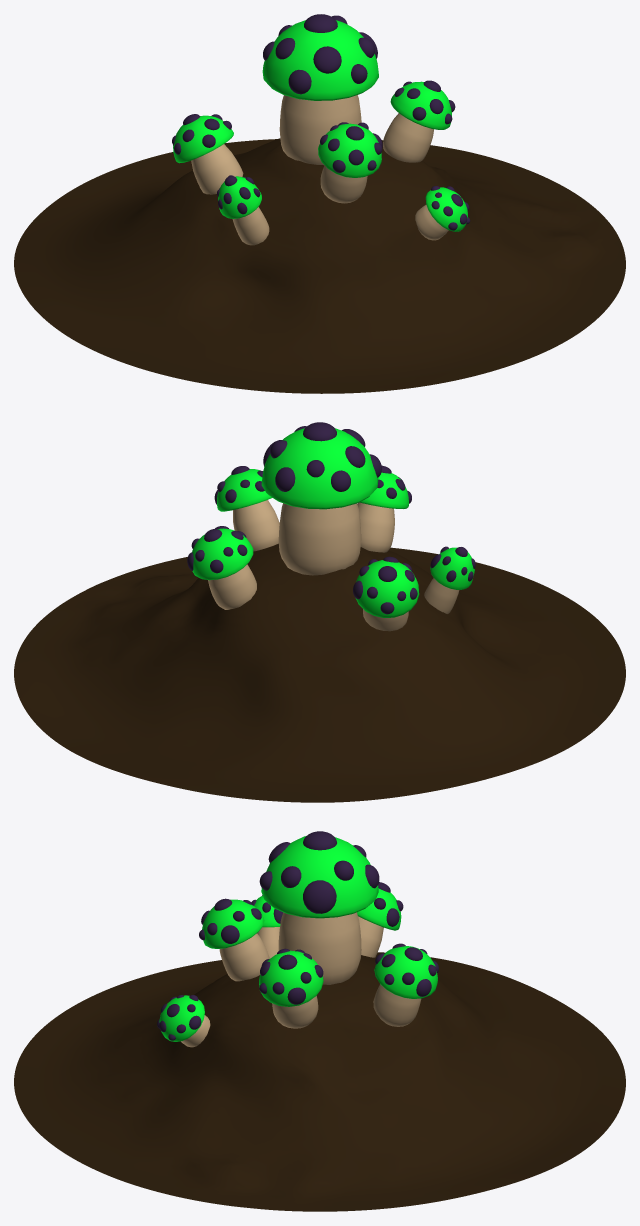
File: Poisonus_Mushrooms.obj
3 renders of one model, top to bottom at view 1: azimuth 30°, elevation 25°; view 2: azimuth 150°, elevation 25°; view 3: azimuth 270°, elevation 25°, orthographic.
Visible parts, largest first — view 1: Poisonous_Mushrooms Hill, Poisonous_Mushrooms Shroom_Top Big_Shroom, Poisonous_Mushrooms Big_Shroom Shroom_Stalk, Poisonous_Mushrooms Shroom_Top Shroom1, Poisonous_Mushrooms Shroom2 Shroom_Stalk, Poisonous_Mushrooms Shroom_Top Shroom2, Poisonous_Mushrooms Shroom4 Shroom_Stalk, Poisonous_Mushrooms Shroom_Top Shroom4, Poisonous_Mushrooms Shroom1 Shroom_Stalk, Poisonous_Mushrooms Shroom_Top Shroom5, Shroom_Top Shroom6 Poisonous_Mushrooms, Poisonous_Mushrooms Shroom5 Shroom_Stalk (+3 smaller); view 2: Poisonous_Mushrooms Hill, Poisonous_Mushrooms Shroom_Top Big_Shroom, Poisonous_Mushrooms Big_Shroom Shroom_Stalk, Poisonous_Mushrooms Shroom_Top Shroom4, Poisonous_Mushrooms Shroom_Top Shroom3, Poisonous_Mushrooms Shroom2 Shroom_Stalk, Poisonous_Mushrooms Shroom1 Shroom_Stalk, Poisonous_Mushrooms Shroom3 Shroom_Stalk, Poisonous_Mushrooms Shroom_Top Shroom2, Poisonous_Mushrooms Shroom_Top Shroom5, Poisonous_Mushrooms Shroom_Top Shroom1, Poisonous_Mushrooms Shroom5 Shroom_Stalk (+2 smaller); view 3: Poisonous_Mushrooms Hill, Poisonous_Mushrooms Shroom_Top Big_Shroom, Poisonous_Mushrooms Big_Shroom Shroom_Stalk, Poisonous_Mushrooms Shroom_Top Shroom2, Poisonous_Mushrooms Shroom_Top Shroom3, Poisonous_Mushrooms Shroom_Top Shroom1, Poisonous_Mushrooms Shroom1 Shroom_Stalk, Poisonous_Mushrooms Shroom3 Shroom_Stalk, Shroom_Top Shroom6 Poisonous_Mushrooms, Poisonous_Mushrooms Shroom2 Shroom_Stalk, Poisonous_Mushrooms Big_Shroom Poison_Sacks Poison_Sack11, Poisonous_Mushrooms Shroom_Top Shroom4 (+2 smaller).
Part boxes in pixels (<box>): Poisonous_Mushrooms Hill: <box>14,138,625,393</box>; Poisonous_Mushrooms Shroom_Top Big_Shroom: <box>262,20,378,100</box>; Poisonous_Mushrooms Big_Shroom Shroom_Stalk: <box>279,95,361,165</box>; Poisonous_Mushrooms Shroom_Top Shroom1: <box>318,123,381,177</box>; Poisonous_Mushrooms Shroom2 Shroom_Stalk: <box>383,113,433,162</box>; Poisonous_Mushrooms Shroom_Top Shroom2: <box>390,81,451,129</box>; Poisonous_Mushrooms Shroom4 Shroom_Stalk: <box>191,144,243,194</box>; Poisonous_Mushrooms Shroom_Top Shroom4: <box>173,115,233,163</box>; Poisonous_Mushrooms Shroom1 Shroom_Stalk: <box>320,165,367,203</box>; Poisonous_Mushrooms Shroom_Top Shroom5: <box>218,176,261,218</box>; Shroom_Top Shroom6 Poisonous_Mushrooms: <box>425,187,467,231</box>; Poisonous_Mushrooms Shroom5 Shroom_Stalk: <box>232,207,269,245</box>; Poisonous_Mushrooms Hill: <box>14,543,625,802</box>; Poisonous_Mushrooms Shroom_Top Big_Shroom: <box>261,428,378,509</box>; Poisonous_Mushrooms Big_Shroom Shroom_Stalk: <box>278,503,361,575</box>; Poisonous_Mushrooms Shroom_Top Shroom4: <box>355,560,419,617</box>; Poisonous_Mushrooms Shroom_Top Shroom3: <box>192,528,253,580</box>; Poisonous_Mushrooms Shroom2 Shroom_Stalk: <box>233,500,279,551</box>; Poisonous_Mushrooms Shroom1 Shroom_Stalk: <box>357,502,394,552</box>; Poisonous_Mushrooms Shroom3 Shroom_Stalk: <box>208,564,256,609</box>; Poisonous_Mushrooms Shroom_Top Shroom2: <box>217,469,272,511</box>; Poisonous_Mushrooms Shroom_Top Shroom5: <box>430,547,474,589</box>; Poisonous_Mushrooms Shroom_Top Shroom1: <box>359,472,408,508</box>; Poisonous_Mushrooms Shroom5 Shroom_Stalk: <box>424,578,459,613</box>; Poisonous_Mushrooms Hill: <box>14,952,625,1211</box>; Poisonous_Mushrooms Shroom_Top Big_Shroom: <box>261,836,378,918</box>; Poisonous_Mushrooms Big_Shroom Shroom_Stalk: <box>278,912,361,984</box>; Poisonous_Mushrooms Shroom_Top Shroom2: <box>259,950,323,1006</box>; Poisonous_Mushrooms Shroom_Top Shroom3: <box>374,946,437,998</box>; Poisonous_Mushrooms Shroom_Top Shroom1: <box>202,899,264,948</box>; Poisonous_Mushrooms Shroom1 Shroom_Stalk: <box>219,933,269,981</box>; Poisonous_Mushrooms Shroom3 Shroom_Stalk: <box>373,984,421,1026</box>; Shroom_Top Shroom6 Poisonous_Mushrooms: <box>159,995,204,1041</box>; Poisonous_Mushrooms Shroom2 Shroom_Stalk: <box>272,996,318,1028</box>; Poisonous_Mushrooms Big_Shroom Poison_Sacks Poison_Sack11: <box>303,880,336,913</box>; Poisonous_Mushrooms Shroom_Top Shroom4: <box>357,888,401,930</box>.
Bounding box in the file's own units: 10.42 × 4.8 × 10.41.
